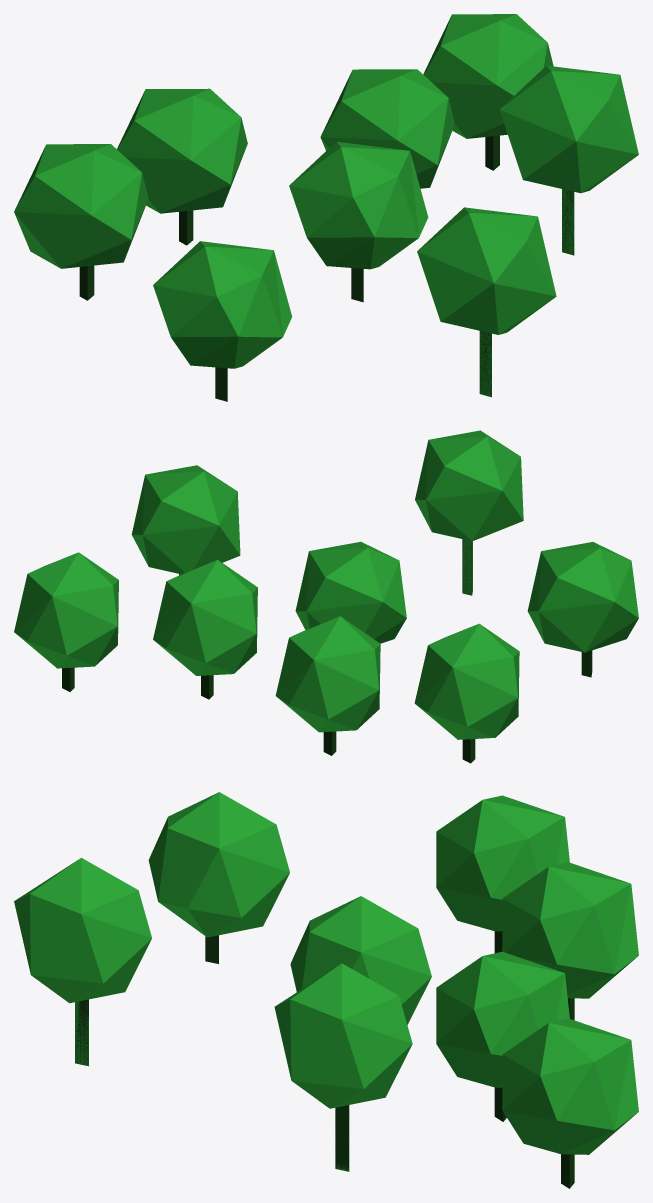
File: tree_1.obj
3 renders of one model, top to bottom at view 1: azimuth 30°, elevation 25°; view 2: azimuth 150°, elevation 25°; view 3: azimuth 270°, elevation 25°, orthographic. The views are drawn at different scales.
Parts seen in each view (by area): view 1: t1_bush.001_Icosphere.005, t1_bush_Icosphere, t2_bush_Icosphere.003, t2_bush.003_Icosphere.006, t2_bush.005_Icosphere.008, t2_bush.004_Icosphere.007, t2_bush.001_Icosphere.002, t2_bush.002_Icosphere.004, t1_trunk.001_Cube.005; view 2: t1_bush.001_Icosphere.005, t2_bush.003_Icosphere.006, t1_bush_Icosphere, t2_bush.005_Icosphere.008, t2_bush.001_Icosphere.002, t2_bush.004_Icosphere.007, t2_bush.002_Icosphere.004, t2_bush_Icosphere.003; view 3: t1_bush.001_Icosphere.005, t2_bush.001_Icosphere.002, t2_bush.003_Icosphere.006, t1_bush_Icosphere, t2_bush.004_Icosphere.007, t2_bush.005_Icosphere.008, t2_bush.002_Icosphere.004, t2_bush_Icosphere.003, t1_trunk_Cube, t1_trunk.001_Cube.005.
Boxes of the visible parts, bbox=[...] form: t1_bush.001_Icosphere.005: bbox=[417, 207, 556, 397]; t1_bush_Icosphere: bbox=[499, 65, 638, 255]; t2_bush_Icosphere.003: bbox=[289, 141, 428, 269]; t2_bush.003_Icosphere.006: bbox=[153, 241, 292, 368]; t2_bush.005_Icosphere.008: bbox=[14, 144, 148, 268]; t2_bush.004_Icosphere.007: bbox=[117, 88, 247, 213]; t2_bush.001_Icosphere.002: bbox=[423, 14, 553, 138]; t2_bush.002_Icosphere.004: bbox=[320, 69, 454, 188]; t1_trunk.001_Cube.005: bbox=[479, 331, 491, 396]; t1_bush.001_Icosphere.005: bbox=[415, 430, 523, 595]; t2_bush.003_Icosphere.006: bbox=[527, 542, 638, 652]; t1_bush_Icosphere: bbox=[131, 465, 240, 575]; t2_bush.005_Icosphere.008: bbox=[414, 623, 519, 739]; t2_bush.001_Icosphere.002: bbox=[14, 552, 118, 668]; t2_bush.004_Icosphere.007: bbox=[275, 616, 380, 732]; t2_bush.002_Icosphere.004: bbox=[153, 559, 257, 675]; t2_bush_Icosphere.003: bbox=[295, 541, 406, 643]; t1_bush.001_Icosphere.005: bbox=[14, 858, 151, 1066]; t2_bush.001_Icosphere.002: bbox=[502, 1018, 638, 1154]; t2_bush.003_Icosphere.006: bbox=[148, 792, 289, 937]; t1_bush_Icosphere: bbox=[274, 963, 412, 1171]; t2_bush.004_Icosphere.007: bbox=[502, 862, 638, 998]; t2_bush.005_Icosphere.008: bbox=[436, 795, 569, 931]; t2_bush.002_Icosphere.004: bbox=[436, 951, 569, 1087]; t2_bush_Icosphere.003: bbox=[290, 896, 431, 1024]; t1_trunk_Cube: bbox=[335, 1105, 349, 1170]; t1_trunk.001_Cube.005: bbox=[75, 999, 88, 1065].
Bounding box in the file's own units: 0.945 × 0.304 × 0.8766.
